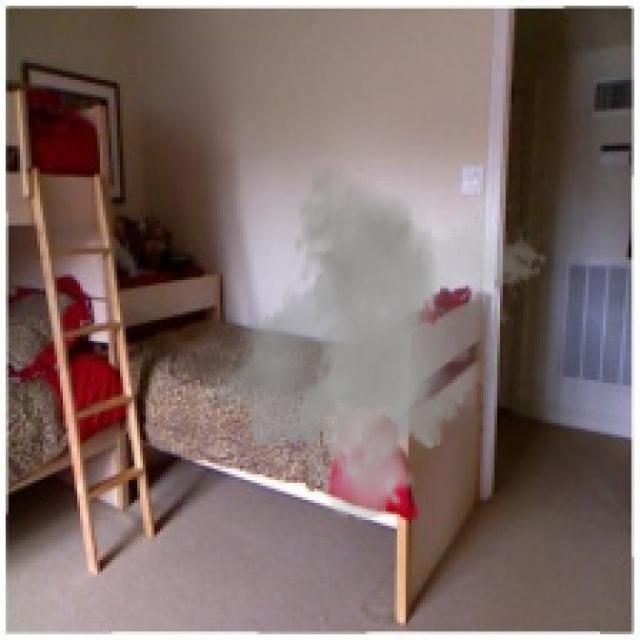smoke: (206, 163, 548, 523)
